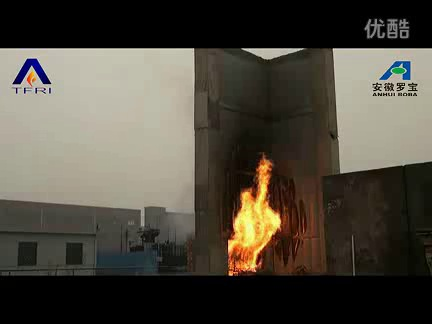fire: (219, 153, 287, 275)
